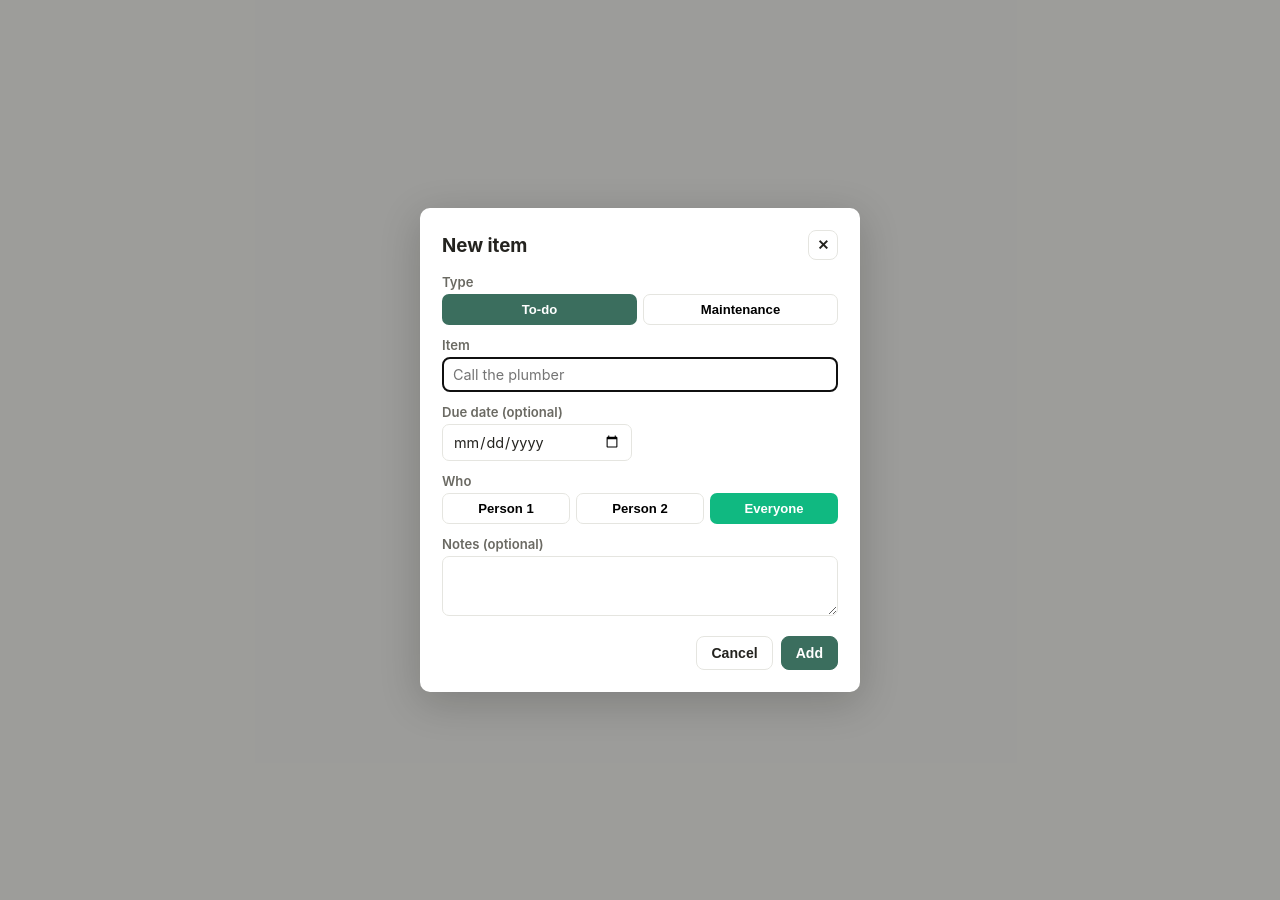
Scenario: TaskModal › switching to Maintenance reveals category and recurrence fields
Expected: the button "Person 1" is shown, [442,493,570,524]
Click the button "Maintenance" at point(740, 310), box [643,294,838,325]
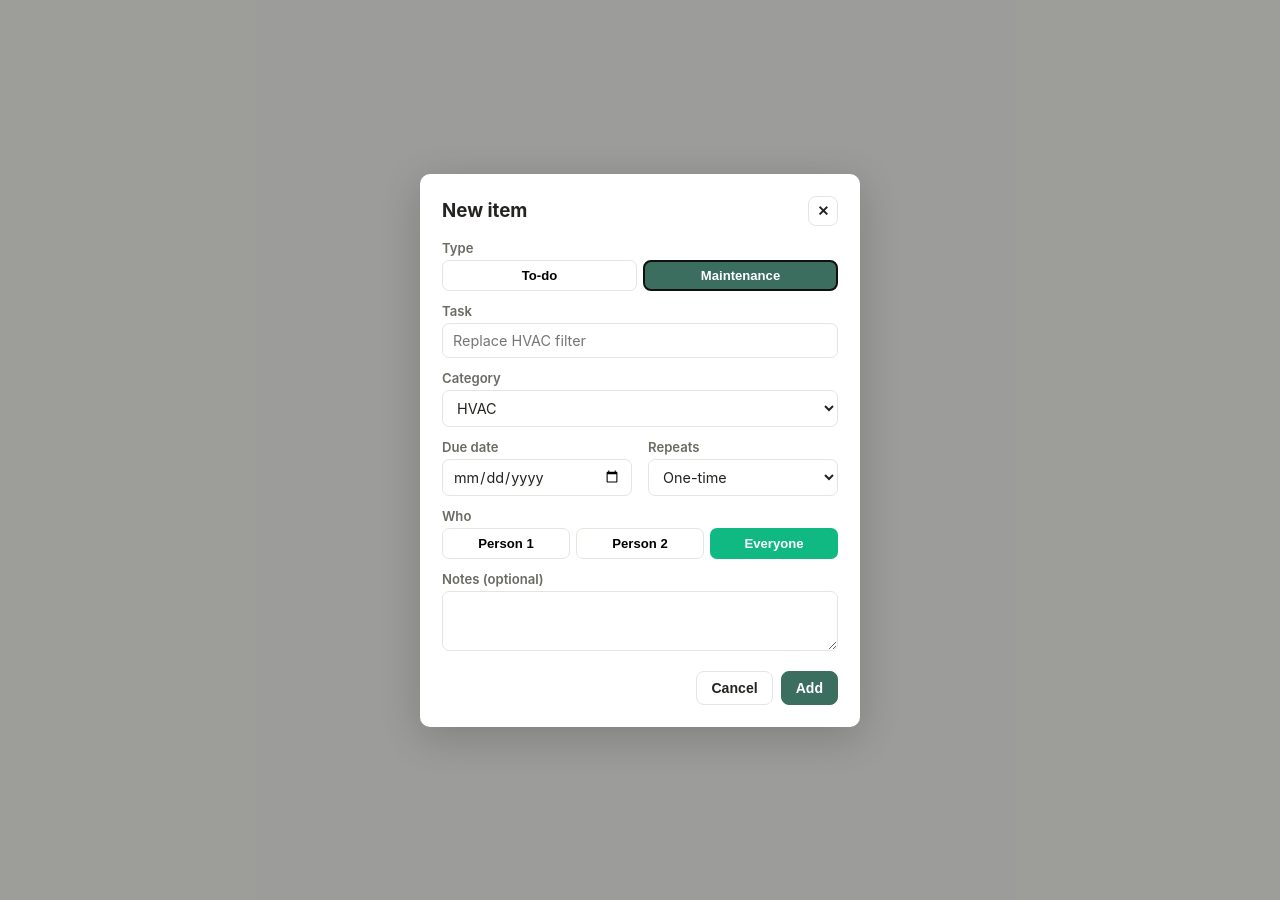
Now the text "Category" is shown, box [442,370,501,386]
Now the text "Repeats" is shown, box [648,438,700,454]
